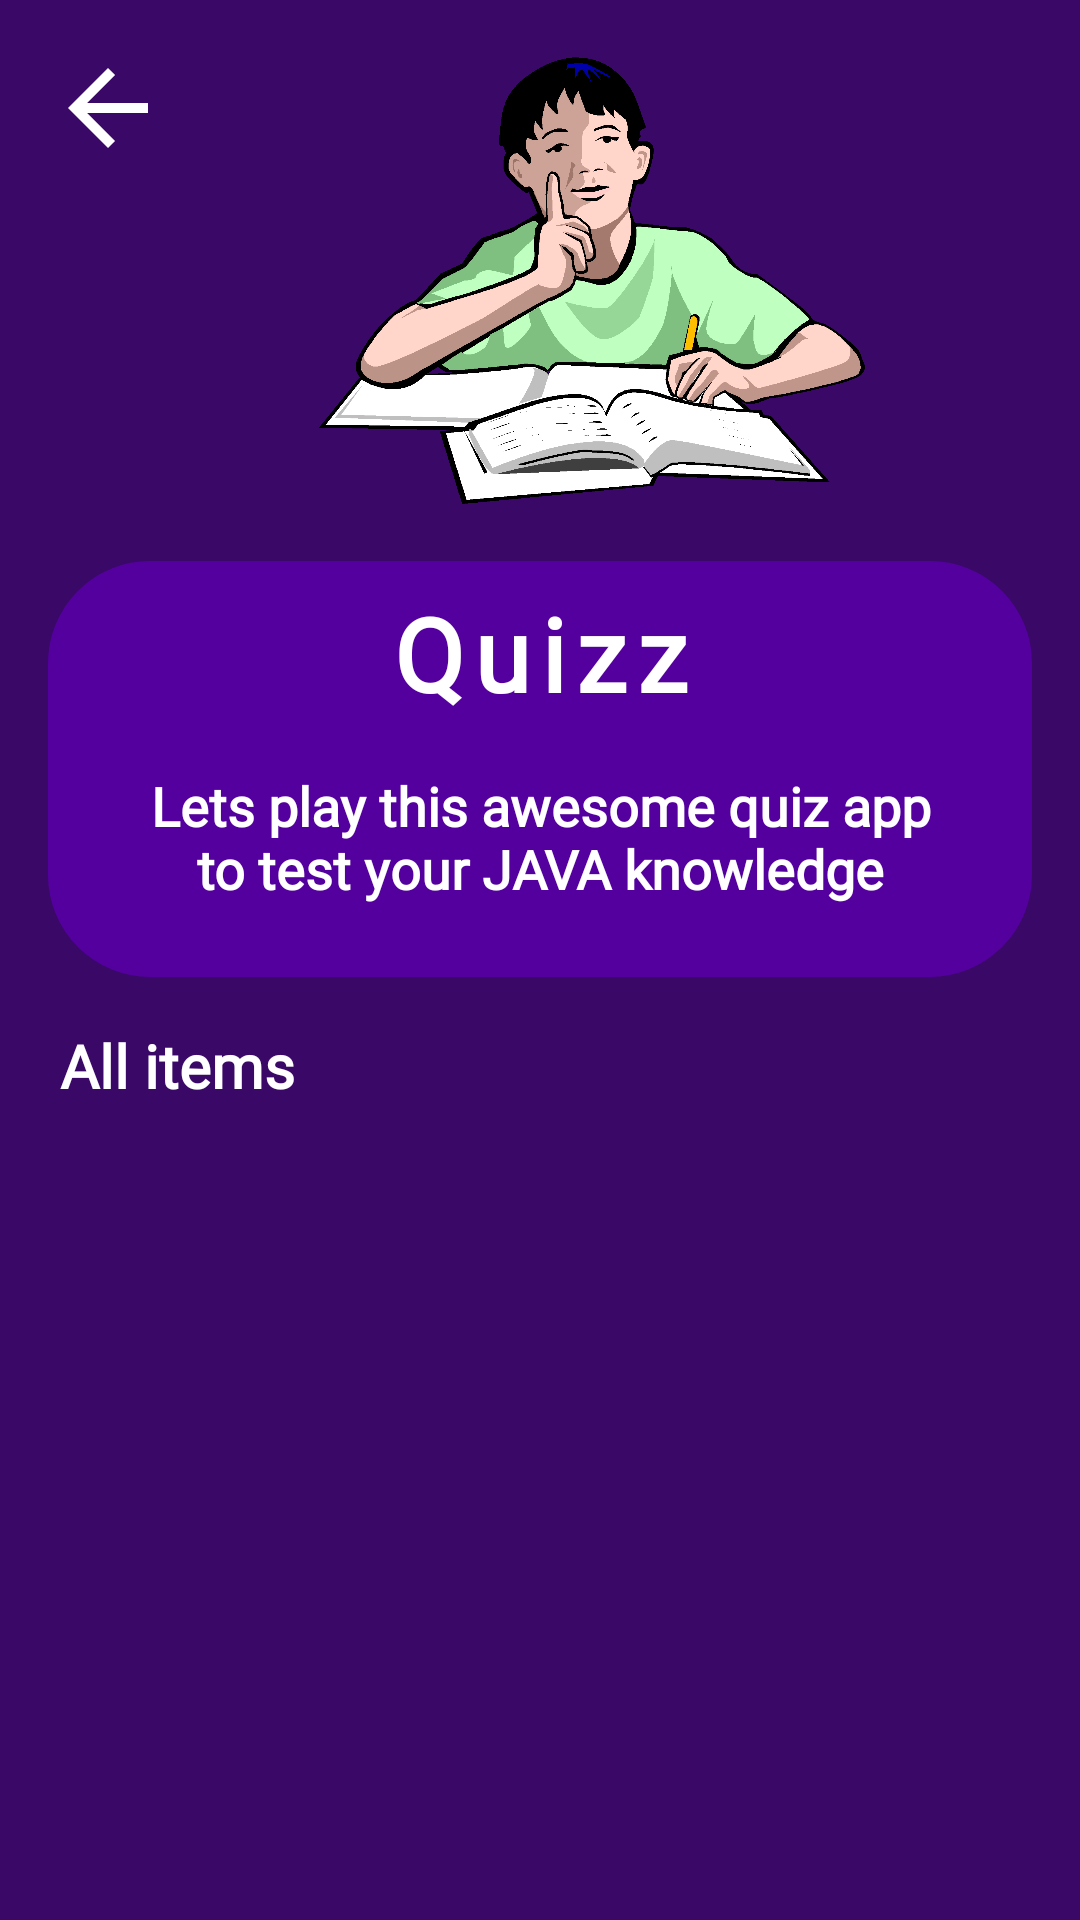

Screen size 1080 × 1920. Icon name, then its center in pixels as (x=x, y=y):
arrow back: (x=108, y=108)
